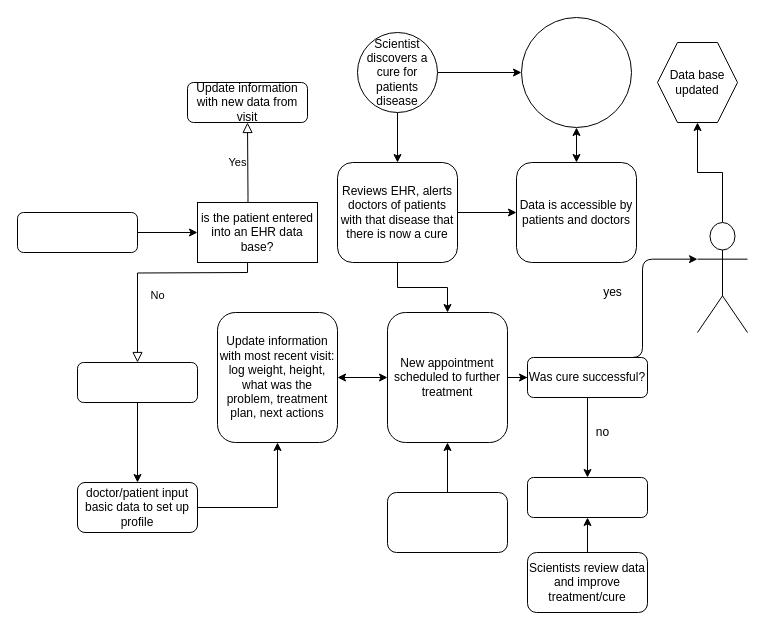
The diagram is 781 pixels wide and 630 high, and some of its shapes have lost their labels. Here are the shapes that lost their labels. From the top down, the centre of each, then its label:
(x=576, y=72): Updates EHR information about disease and what the future steps are
(x=77, y=232): Patient goes to Doctors Office
(x=722, y=277): Patient is cured
(x=137, y=382): Create a new profile for patient
(x=587, y=497): Database updated
(x=447, y=522): Other doctors review patient data and help to create treatment plan
